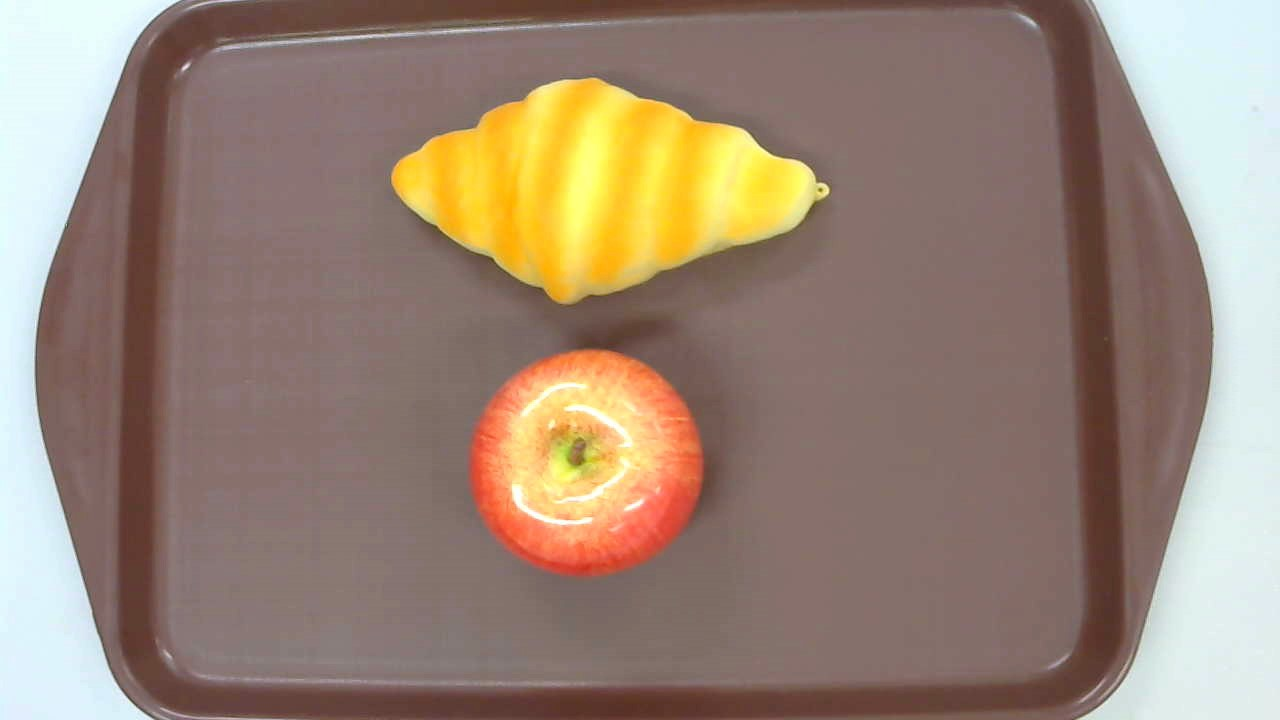croissant: (390, 76, 831, 307)
red apple: (467, 347, 705, 577)
